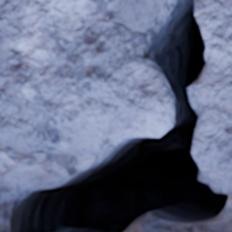broken_brick: (0, 0, 173, 155), (193, 0, 231, 194)
crack: (2, 0, 230, 231)
